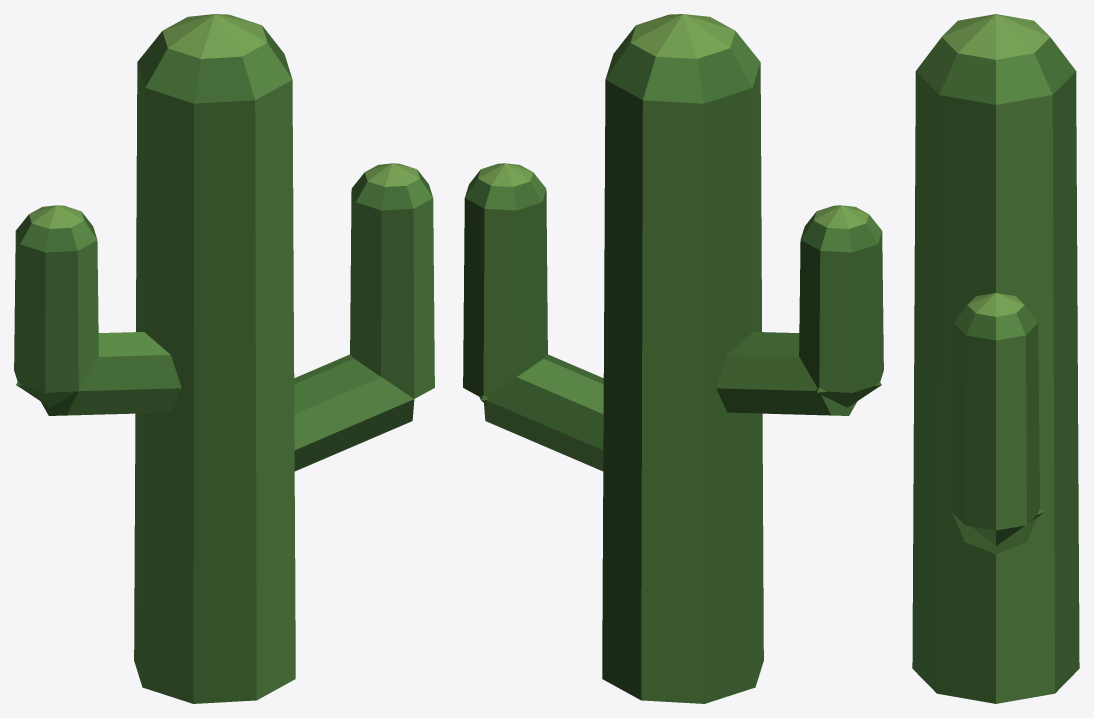
The model's file is cactus.glb.
3 renders of one model, left to right at view 1: azimuth 30°, elevation 25°; view 2: azimuth 150°, elevation 25°; view 3: azimuth 270°, elevation 25°, orthographic.
Visible parts, largest first — view 1: cactus2; view 2: cactus2; view 3: cactus2.
Boxes of the visible parts, box(x1,y1,x2,y2) form: cactus2: box(14, 14, 434, 703); cactus2: box(463, 14, 883, 703); cactus2: box(912, 14, 1079, 703).
Bounding box in the file's own units: 2.17 × 3.29 × 0.76.
